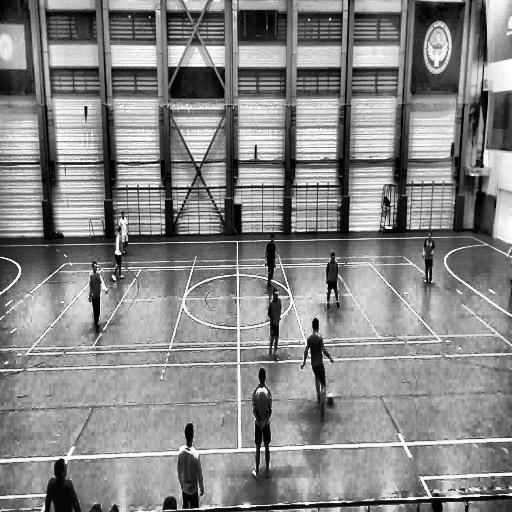ball: (326, 391, 334, 405)
player: (296, 317, 332, 422), (178, 424, 205, 509), (253, 369, 273, 478), (88, 261, 108, 334), (267, 285, 281, 361), (326, 251, 340, 308), (112, 227, 124, 282), (422, 231, 434, 282), (118, 210, 130, 258), (265, 234, 275, 290)
